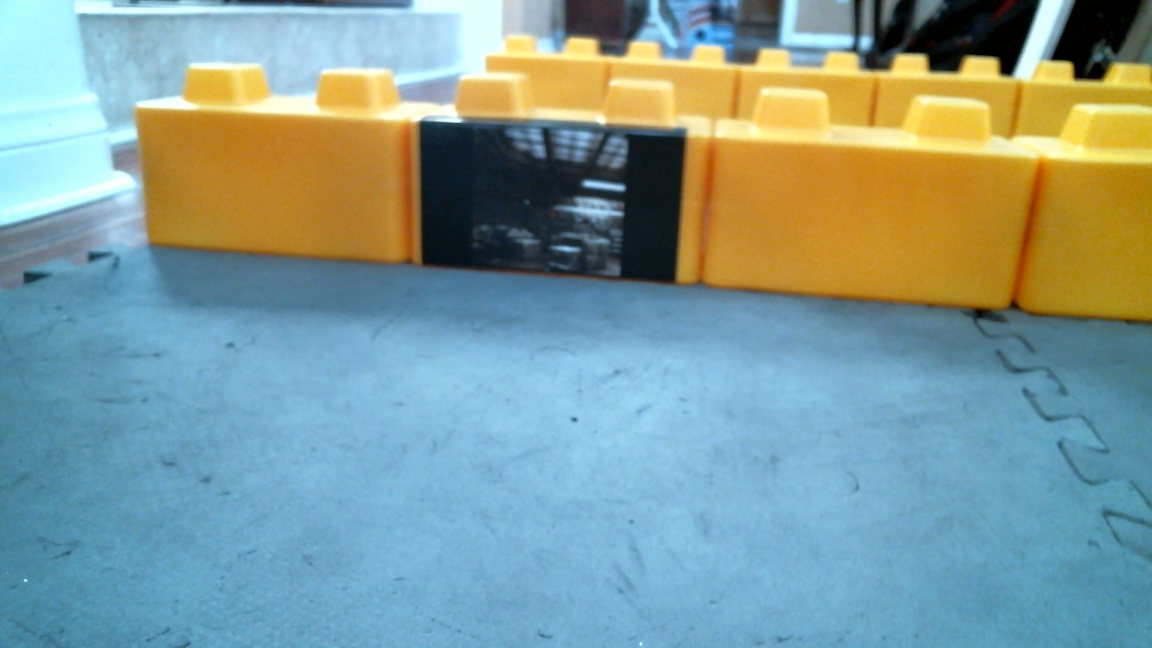skystone: (413, 73, 707, 288)
stone: (705, 86, 1035, 311), (133, 62, 417, 266), (1017, 100, 1152, 320)
